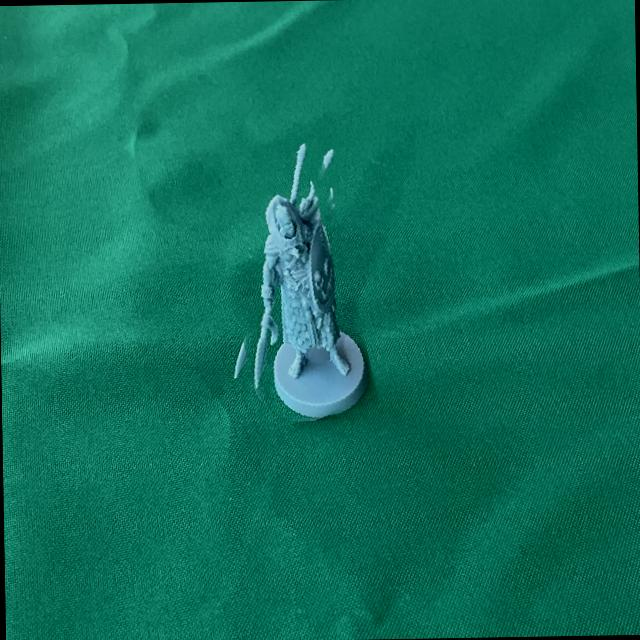isis_follower: (214, 134, 366, 426)
